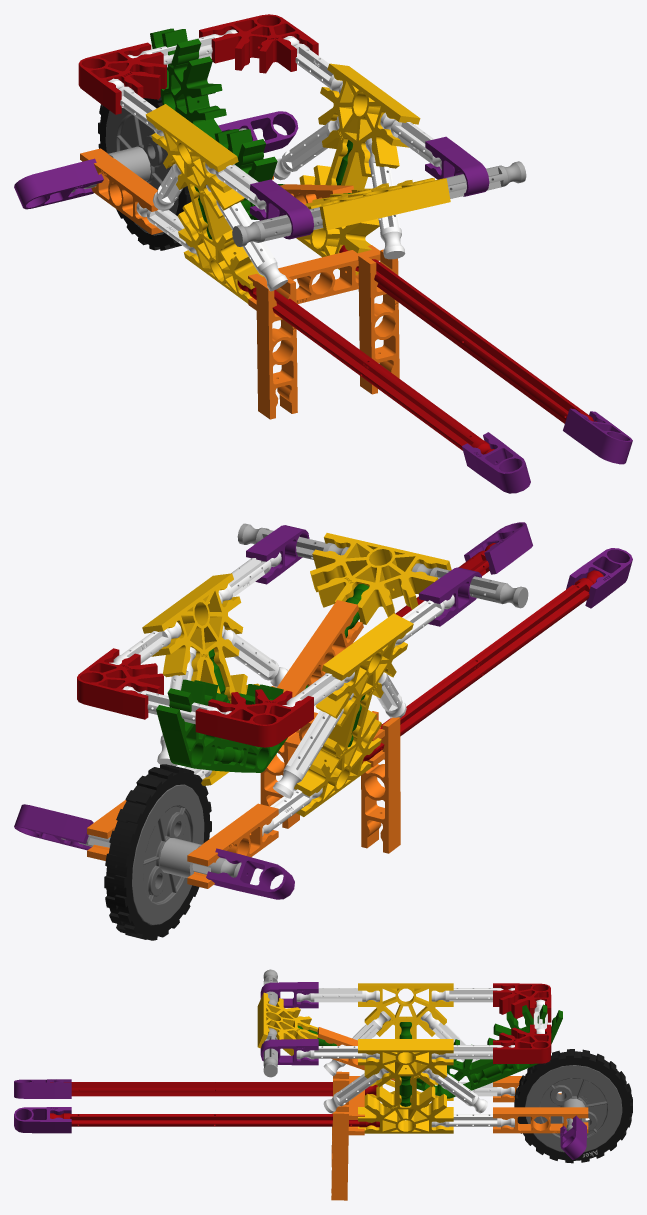
3 renders of one model, top to bottom at view 1: azimuth 30°, elevation 25°; view 2: azimuth 150°, elevation 25°; view 3: azimuth 270°, elevation 25°, orthographic. The views are drawn at different scales.
Visible parts, largest first — view 1: Untitled.1398, Untitled.1380, Untitled.1381, Untitled.1408, Untitled.1400, Untitled.1415, Untitled.1424, Untitled.1390, Untitled.1417, Untitled.1406, Untitled.1399, Untitled.1405 (+25 smaller); view 2: Untitled.1390, Untitled.1383, Untitled.1386, Untitled.1398, Untitled.1380, Untitled.1408, Untitled.1417, Untitled.1406, Untitled.1424, Untitled.1400, Untitled.1415, Untitled.1404 (+27 smaller); view 3: Untitled.1386, Untitled.1380, Untitled.1381, Untitled.1383, Untitled.1398, Untitled.1396, Untitled.1408, Untitled.1390, Untitled.1424, Untitled.1423, Untitled.1417, Untitled.1399 (+23 smaller).
Boxes of the visible parts, bbox=[...] form: Untitled.1398: bbox=[318, 63, 420, 178]; Untitled.1380: bbox=[237, 280, 494, 454]; Untitled.1381: bbox=[339, 245, 596, 423]; Untitled.1408: bbox=[145, 104, 244, 218]; Untitled.1400: bbox=[256, 274, 297, 419]; Untitled.1415: bbox=[150, 28, 226, 139]; Untitled.1424: bbox=[199, 14, 318, 73]; Untitled.1390: bbox=[305, 178, 450, 230]; Untitled.1417: bbox=[78, 42, 166, 114]; Untitled.1406: bbox=[177, 201, 263, 303]; Untitled.1399: bbox=[358, 249, 399, 394]; Untitled.1405: bbox=[248, 245, 380, 310]; Untitled.1390: bbox=[310, 533, 451, 624]; Untitled.1383: bbox=[104, 764, 211, 940]; Untitled.1386: bbox=[132, 784, 204, 925]; Untitled.1398: bbox=[142, 573, 243, 684]; Untitled.1380: bbox=[362, 570, 603, 763]; Untitled.1408: bbox=[315, 613, 413, 726]; Untitled.1417: bbox=[195, 689, 313, 747]; Untitled.1406: bbox=[294, 710, 381, 816]; Untitled.1424: bbox=[77, 648, 163, 719]; Untitled.1400: bbox=[361, 711, 400, 853]; Untitled.1415: bbox=[156, 679, 232, 771]; Untitled.1404: bbox=[277, 600, 363, 697]; Untitled.1386: bbox=[525, 1065, 622, 1152]; Untitled.1380: bbox=[50, 1082, 377, 1096]; Untitled.1381: bbox=[50, 1113, 379, 1127]; Untitled.1383: bbox=[514, 1049, 632, 1163]; Untitled.1398: bbox=[358, 1039, 453, 1091]; Untitled.1396: bbox=[358, 1086, 453, 1133]; Untitled.1408: bbox=[358, 983, 453, 1038]; Untitled.1390: bbox=[257, 992, 317, 1055]; Untitled.1424: bbox=[493, 1024, 551, 1063]; Untitled.1423: bbox=[493, 1107, 588, 1133]; Untitled.1417: bbox=[493, 983, 551, 1022]; Untitled.1399: bbox=[331, 1105, 348, 1200].
Size of the model in its own units: 0.8435 by 0.7302 by 2.39.
